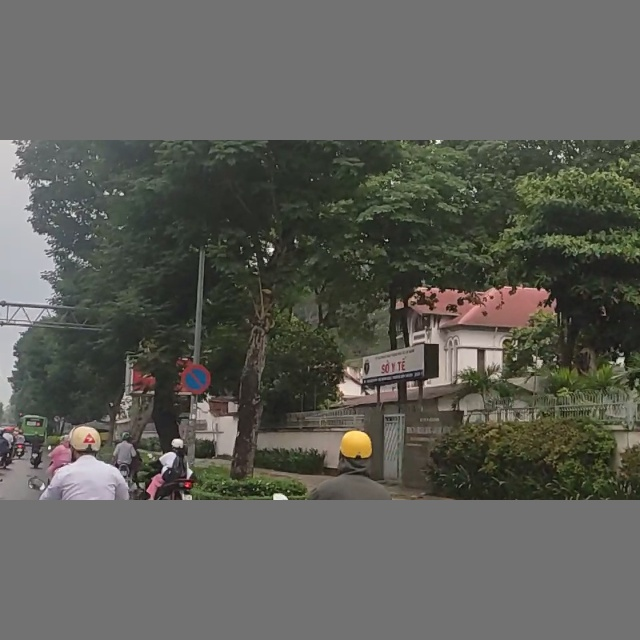P.131a: (180, 364, 210, 394)
